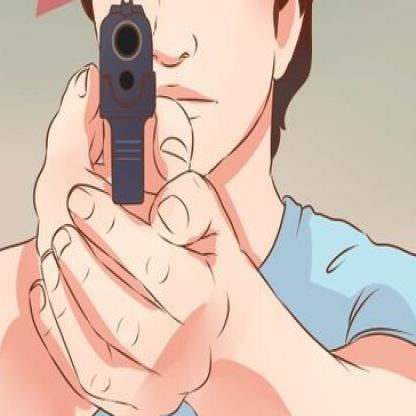gun: (98, 0, 162, 211)
